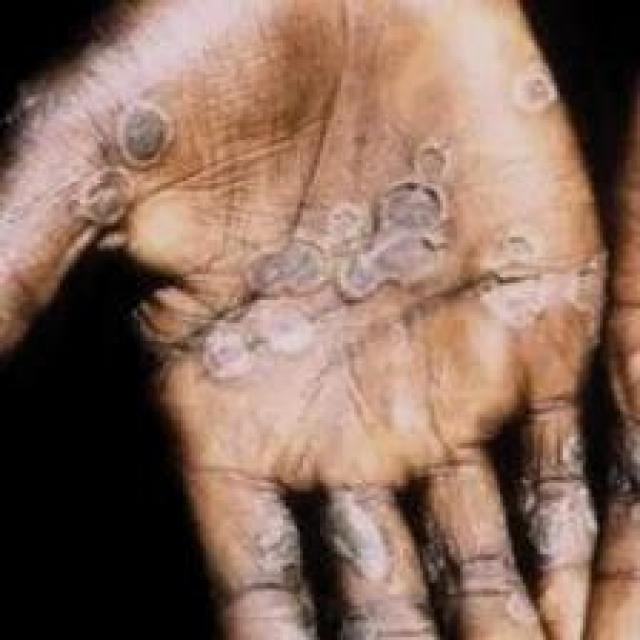monkeypox: (28, 32, 640, 640)
